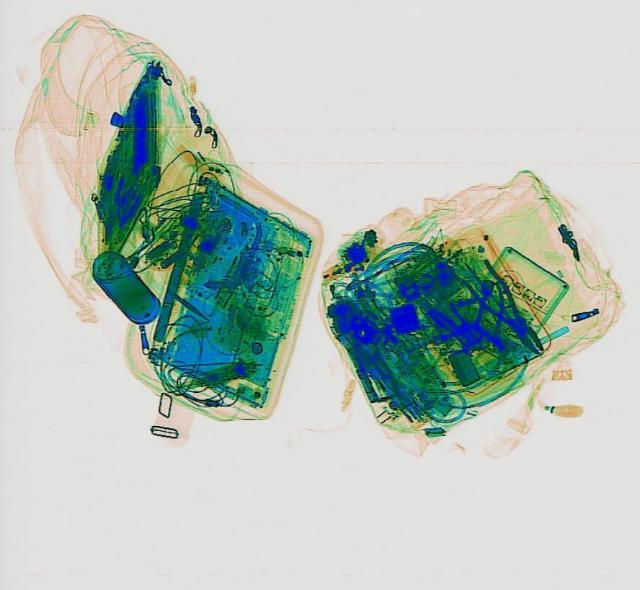Pliers: (454, 255, 556, 363)
